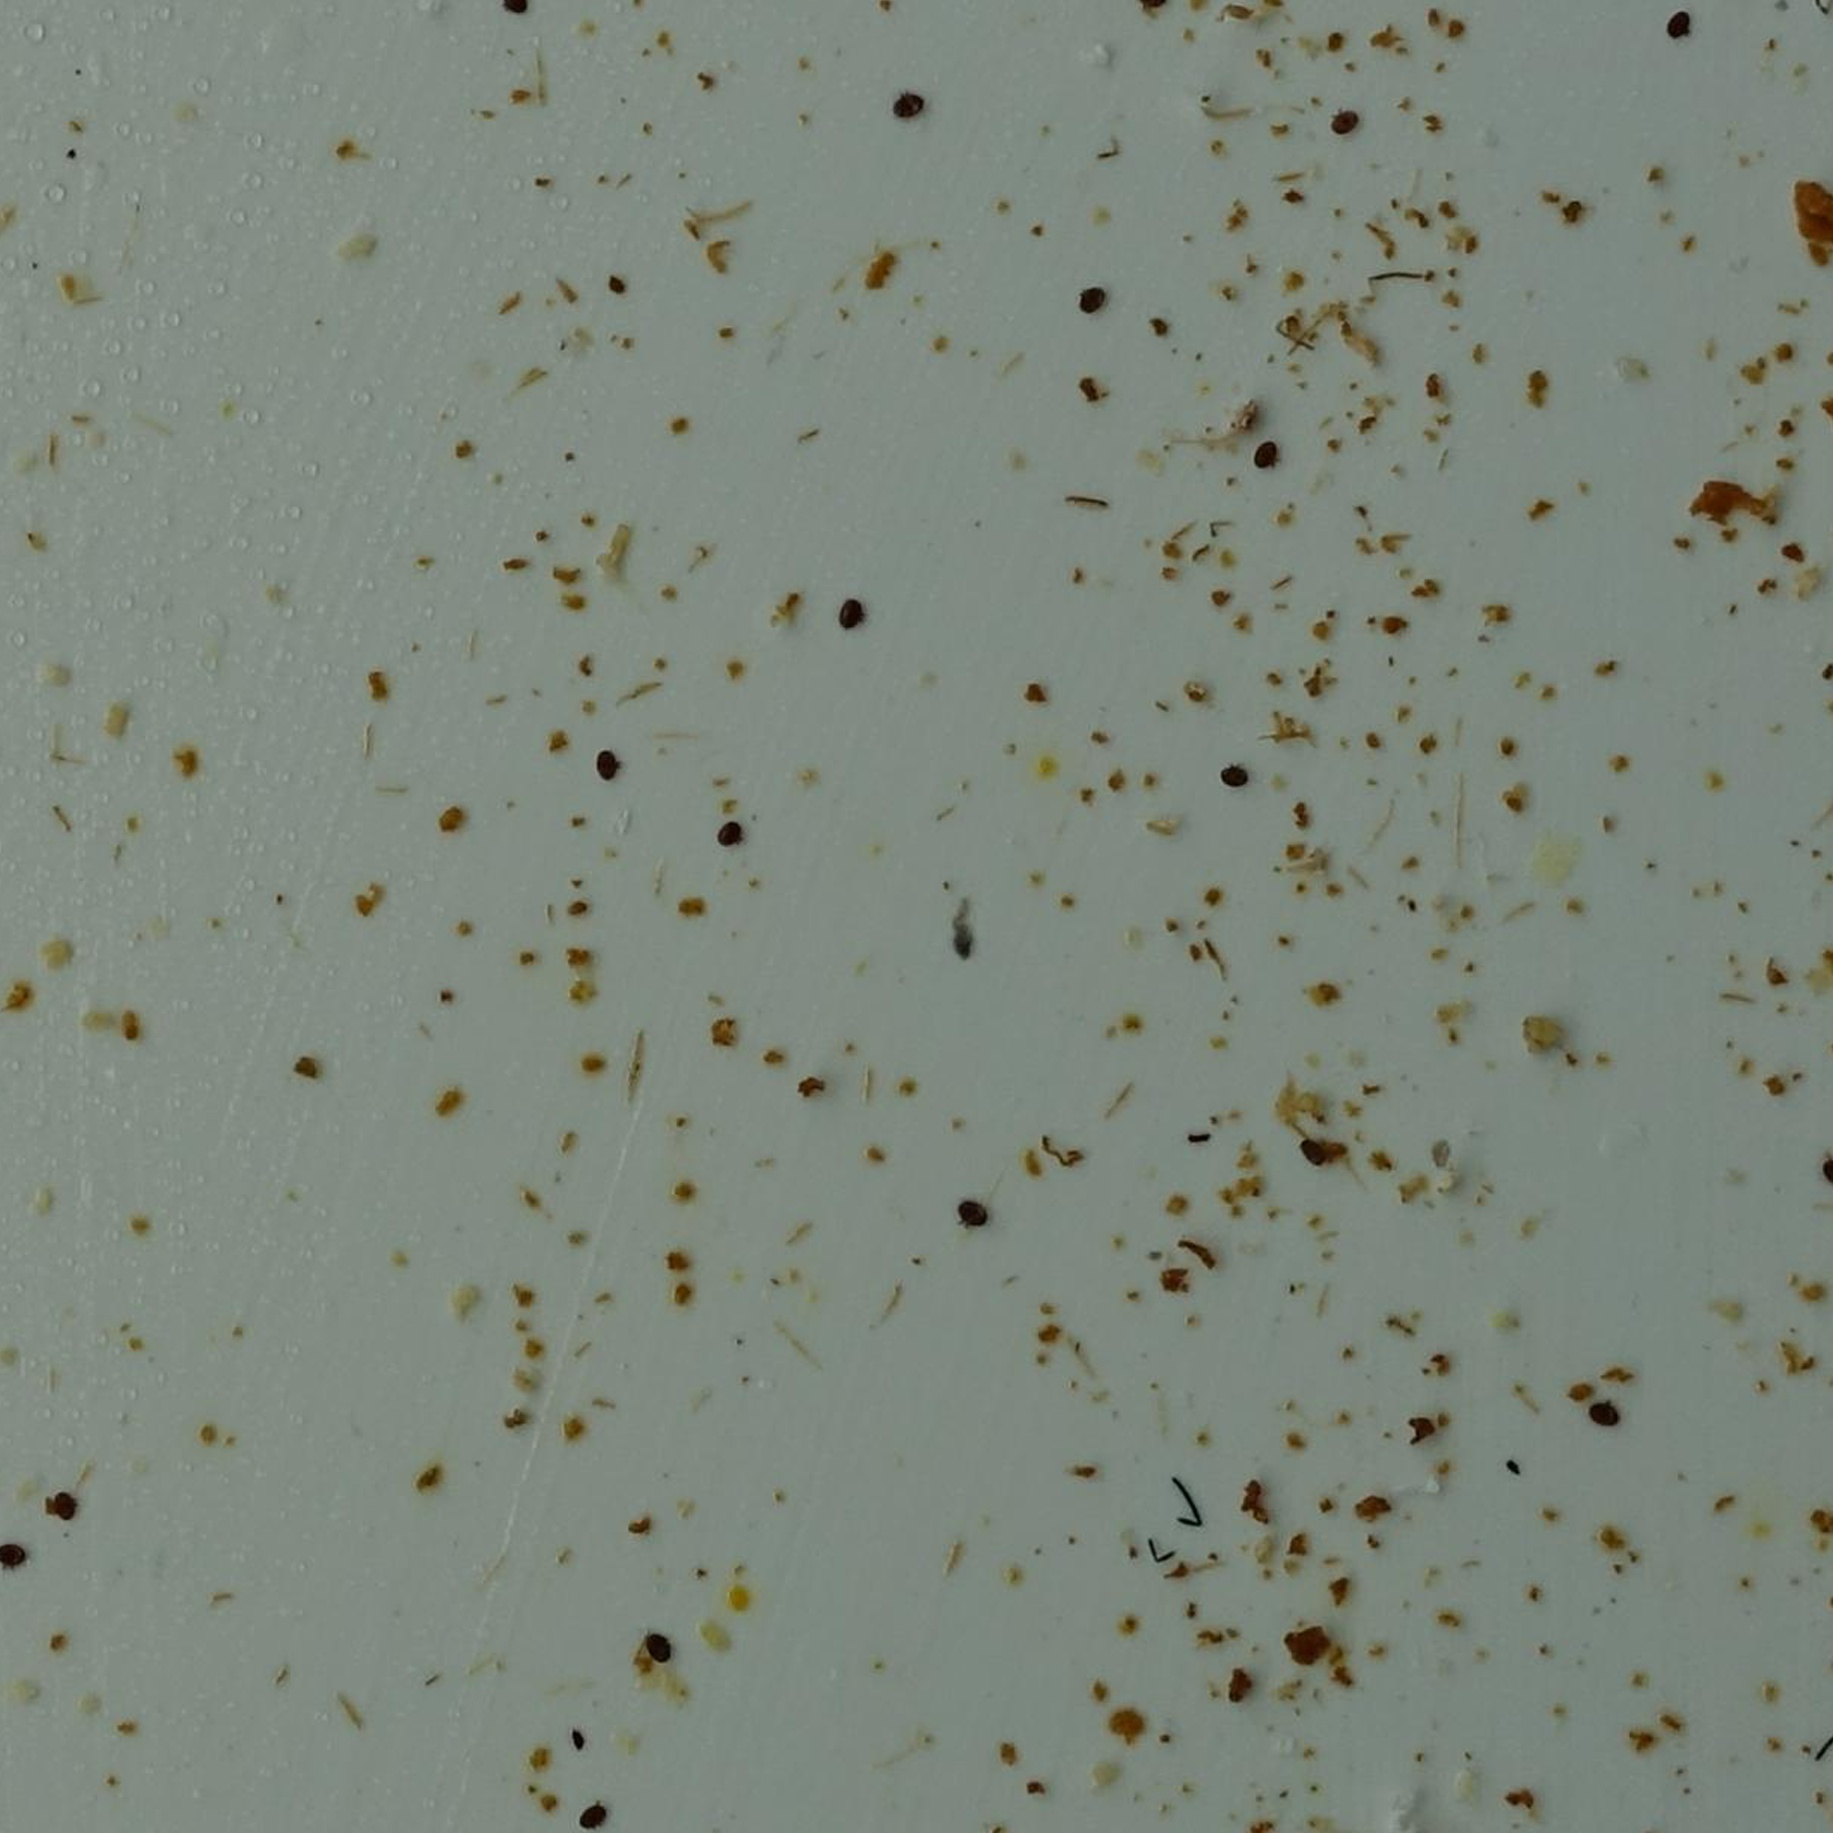Varroa: (1079, 287, 1110, 317), (891, 94, 920, 124), (834, 599, 861, 629), (957, 1198, 984, 1225), (1328, 112, 1355, 139), (577, 1804, 603, 1831), (1220, 775, 1245, 802), (650, 1633, 675, 1658), (1590, 1398, 1615, 1423), (1219, 757, 1244, 782), (1299, 1141, 1324, 1167), (593, 750, 618, 775), (715, 821, 740, 844), (1670, 8, 1694, 34), (52, 1502, 76, 1526), (1257, 457, 1277, 483), (1251, 440, 1272, 463)
